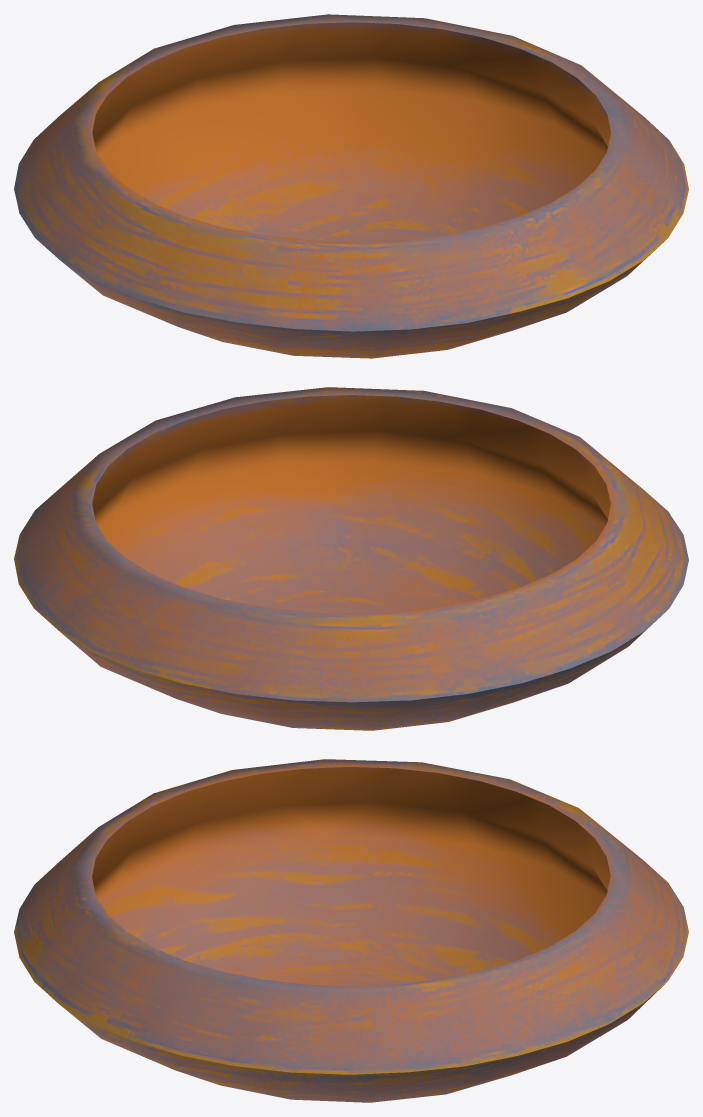
Rendered from SM_Potion_Props_Bowl_02.fbx.
3 views of the same model, one above another, from view 1: azimuth 30°, elevation 25°; view 2: azimuth 150°, elevation 25°; view 3: azimuth 270°, elevation 25° (orthographic).
Visible parts, largest first — view 1: SM_Potion_Props_Bowl_02_LOD0; view 2: SM_Potion_Props_Bowl_02_LOD0; view 3: SM_Potion_Props_Bowl_02_LOD0.
Boxes of the visible parts, box(x1,y1,x2,y2) form: SM_Potion_Props_Bowl_02_LOD0: box(14, 14, 688, 358); SM_Potion_Props_Bowl_02_LOD0: box(14, 387, 688, 730); SM_Potion_Props_Bowl_02_LOD0: box(14, 759, 688, 1102).
Size of what is drawn, in the model's own units: 34.13 by 10.26 by 34.14.
